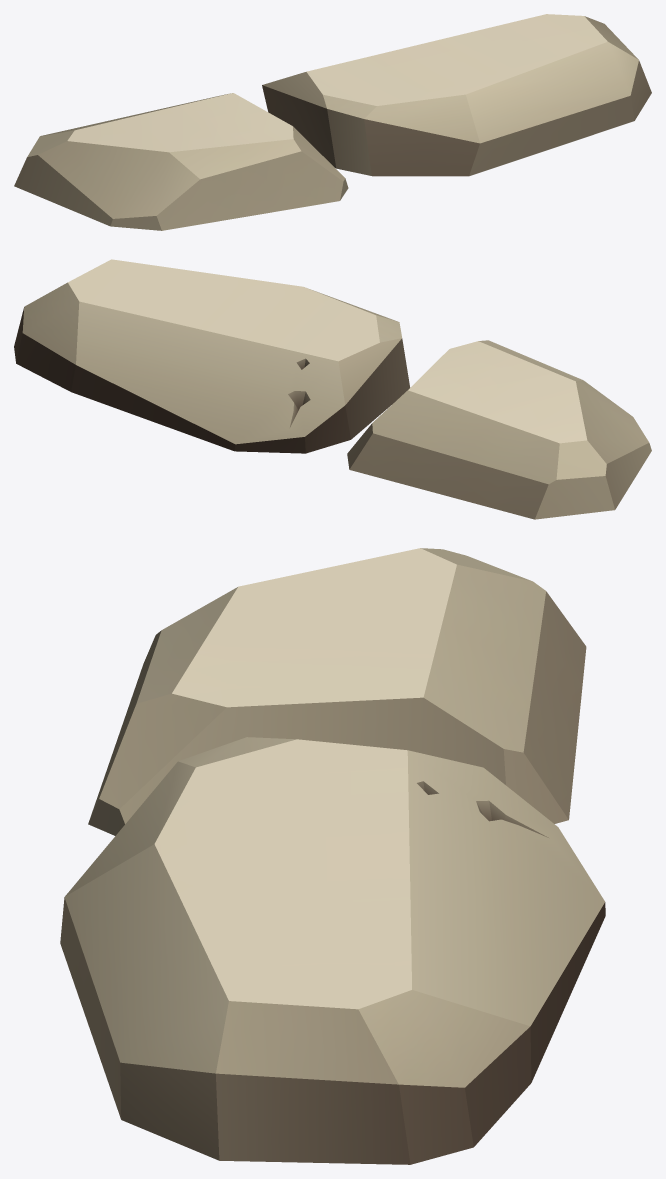
The model's file is Stone_Step_2B.fbx.
3 renders of one model, top to bottom at view 1: azimuth 30°, elevation 25°; view 2: azimuth 150°, elevation 25°; view 3: azimuth 270°, elevation 25°, orthographic. The views are drawn at different scales.
Visible parts, largest first — view 1: Stone_Step_2B; view 2: Stone_Step_2B; view 3: Stone_Step_2B.
Part boxes in pixels (x1,y1,x2,y2): Stone_Step_2B: (14,14,651,230); Stone_Step_2B: (14,259,651,519); Stone_Step_2B: (60,548,605,1164).
Size of the model in its own units: 3.24 by 0.3189 by 1.32.
